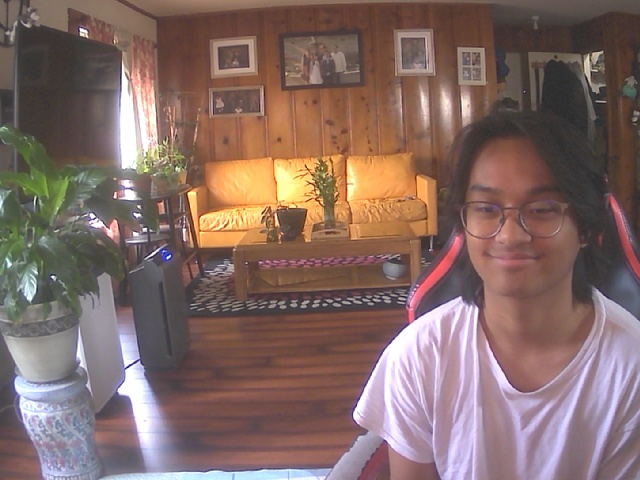happy: (453, 116, 598, 300)
